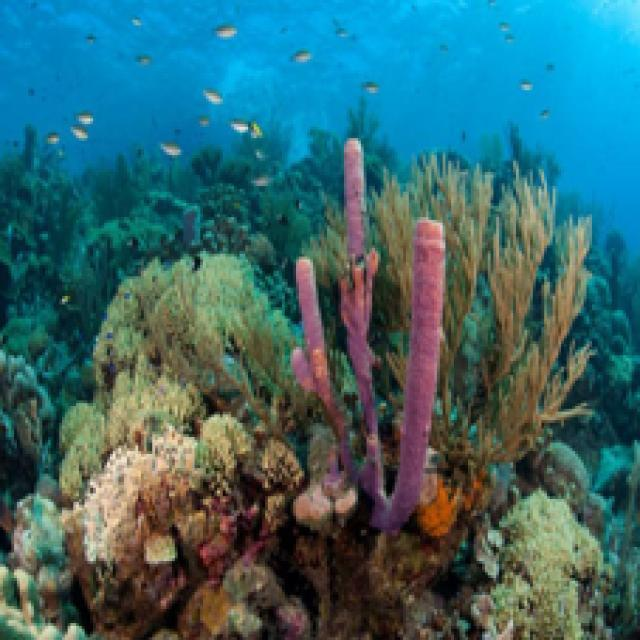Healthy: (69, 252, 285, 437), (81, 435, 202, 578), (493, 492, 603, 639), (392, 220, 444, 514), (341, 139, 384, 486), (207, 422, 299, 541), (294, 425, 359, 536), (297, 254, 335, 414), (427, 490, 462, 542)
